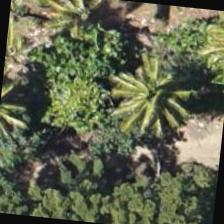Kelapa_Sawit: (92, 46, 190, 146), (36, 0, 133, 61)
